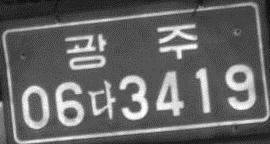0: (21, 84, 49, 130)
1: (192, 69, 220, 116)
3: (119, 74, 149, 121)
4: (155, 71, 184, 116)
6: (54, 81, 85, 127)
9: (224, 64, 256, 110)
광주_D: (64, 22, 198, 69)
다: (88, 80, 116, 120)
